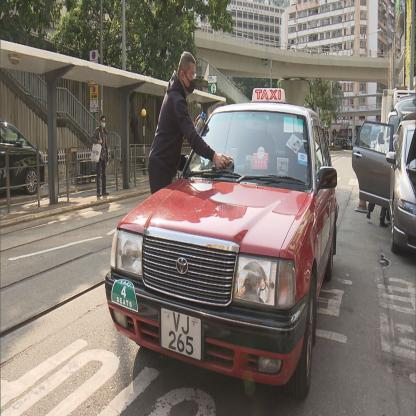taxi: (103, 89, 341, 402)
